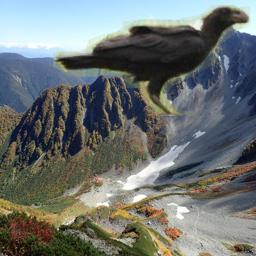Crow: (53, 5, 251, 116)
